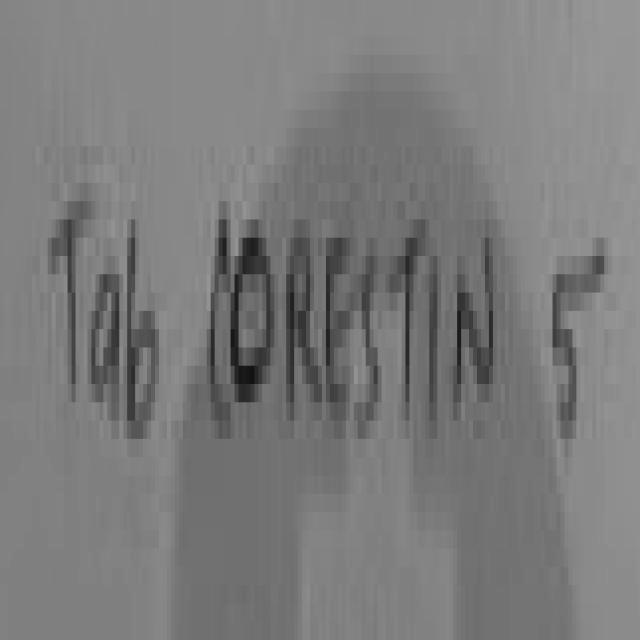5: (555, 256, 608, 447)
C: (207, 203, 234, 452)
E: (325, 232, 353, 431)
I: (429, 248, 438, 434)
N: (457, 238, 497, 411)
O: (235, 238, 270, 402)
R: (286, 238, 322, 411)
S: (362, 242, 385, 440)
T: (389, 215, 428, 433), (52, 201, 89, 393)
a: (91, 274, 119, 421)
b: (127, 219, 159, 439)
